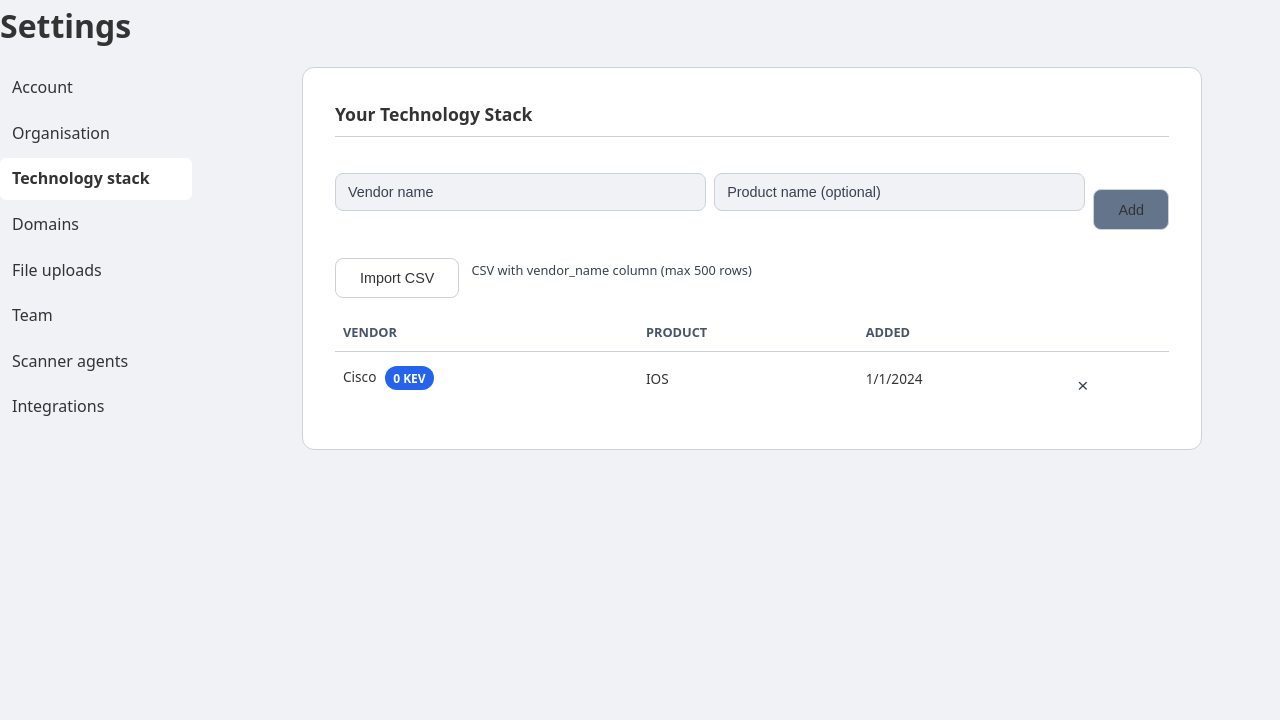
Test: Technology page › delete confirmation › shows the section error and closes the dialog when the API fails
This screenshot has width=1280, height=720.
Click the button named "Delete vendor Cisco" at (1083, 385), box [1072,376,1093,395]
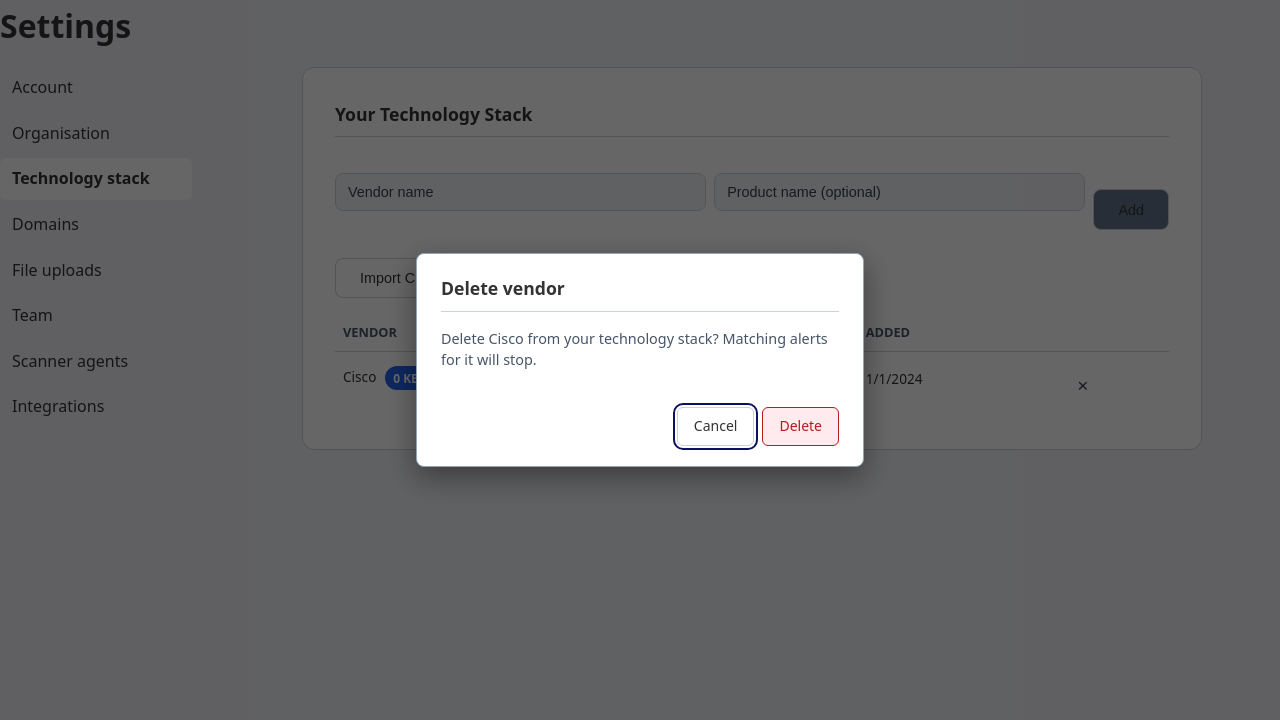
Click the button "Delete" at (801, 426), box [762,407,839,446]
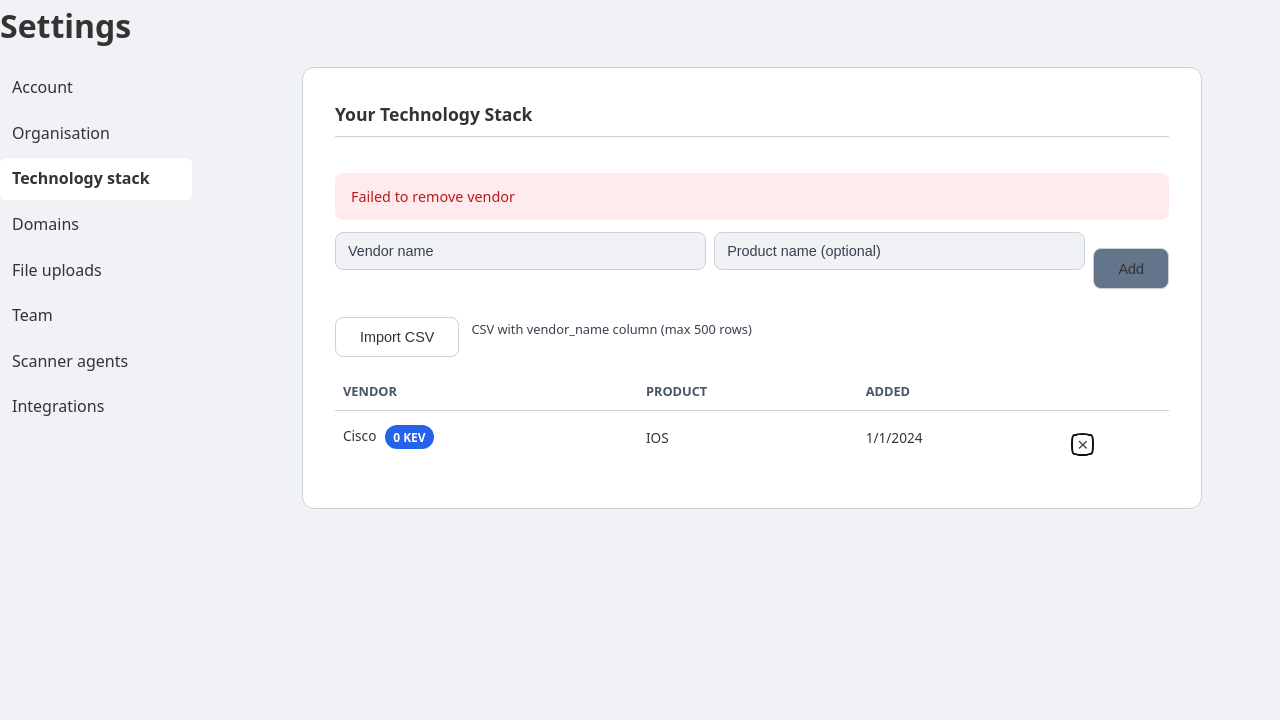
Expected: the dialog is gone
Expected: the text "Failed to remove vendor" is shown, [335,173,1169,220]
